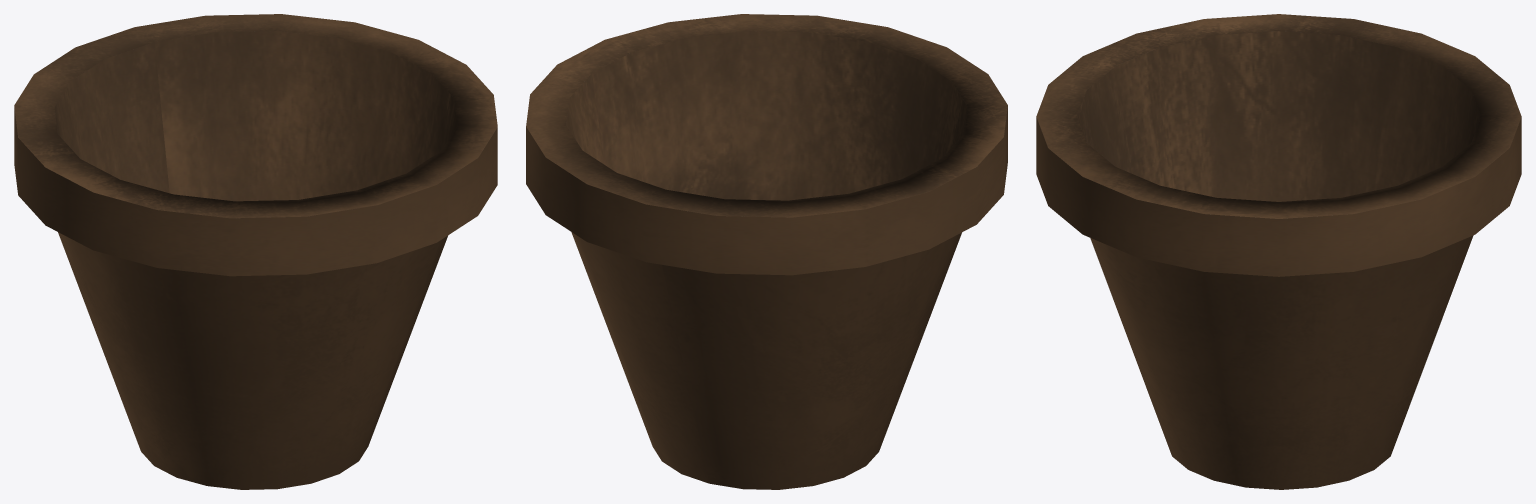
File: maceta.obj
The picture shows the model from 3 angles, left to right: view 1: azimuth 30°, elevation 25°; view 2: azimuth 150°, elevation 25°; view 3: azimuth 270°, elevation 25°; orthographic projection.
Parts seen in each view (by area): view 1: pCone2; view 2: pCone2; view 3: pCone2.
Boxes of the visible parts, box(x1,y1,x2,y2) form: pCone2: box(14, 14, 497, 489); pCone2: box(526, 14, 1007, 489); pCone2: box(1036, 14, 1521, 489).
Size of the model in its own units: 2.85 by 2.11 by 2.85.
Materials: 1 (1 with a texture image).
